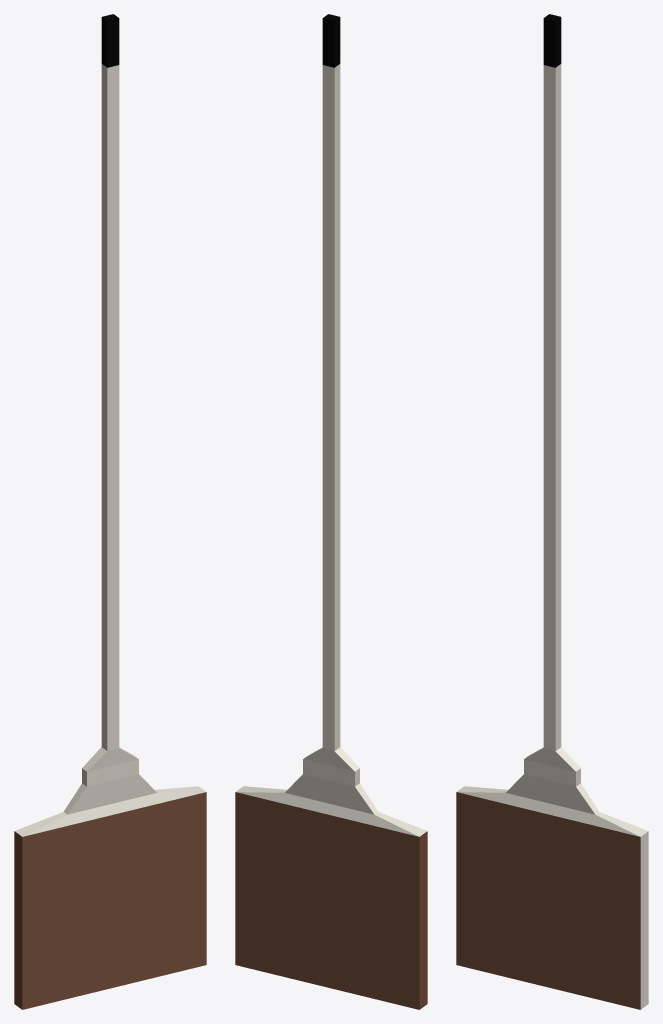
File: Brush.fbx
The picture shows the model from 3 angles, left to right: view 1: azimuth 30°, elevation 25°; view 2: azimuth 150°, elevation 25°; view 3: azimuth 330°, elevation 25°; orthographic projection.
Visible parts, largest first — view 1: Brush; view 2: Brush; view 3: Brush.
Boxes of the visible parts, bbox=[...] form: Brush: bbox=[14, 14, 206, 1009]; Brush: bbox=[235, 14, 427, 1009]; Brush: bbox=[456, 14, 648, 1009].
Size of the model in its own units: 0.2414 by 1.21 by 0.0182.
